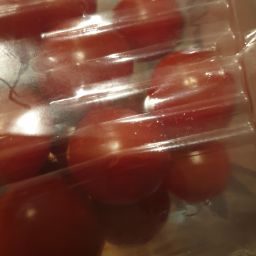Pea tomatoes: (65, 99, 171, 180), (38, 18, 141, 90), (4, 98, 61, 173), (177, 139, 237, 209)
